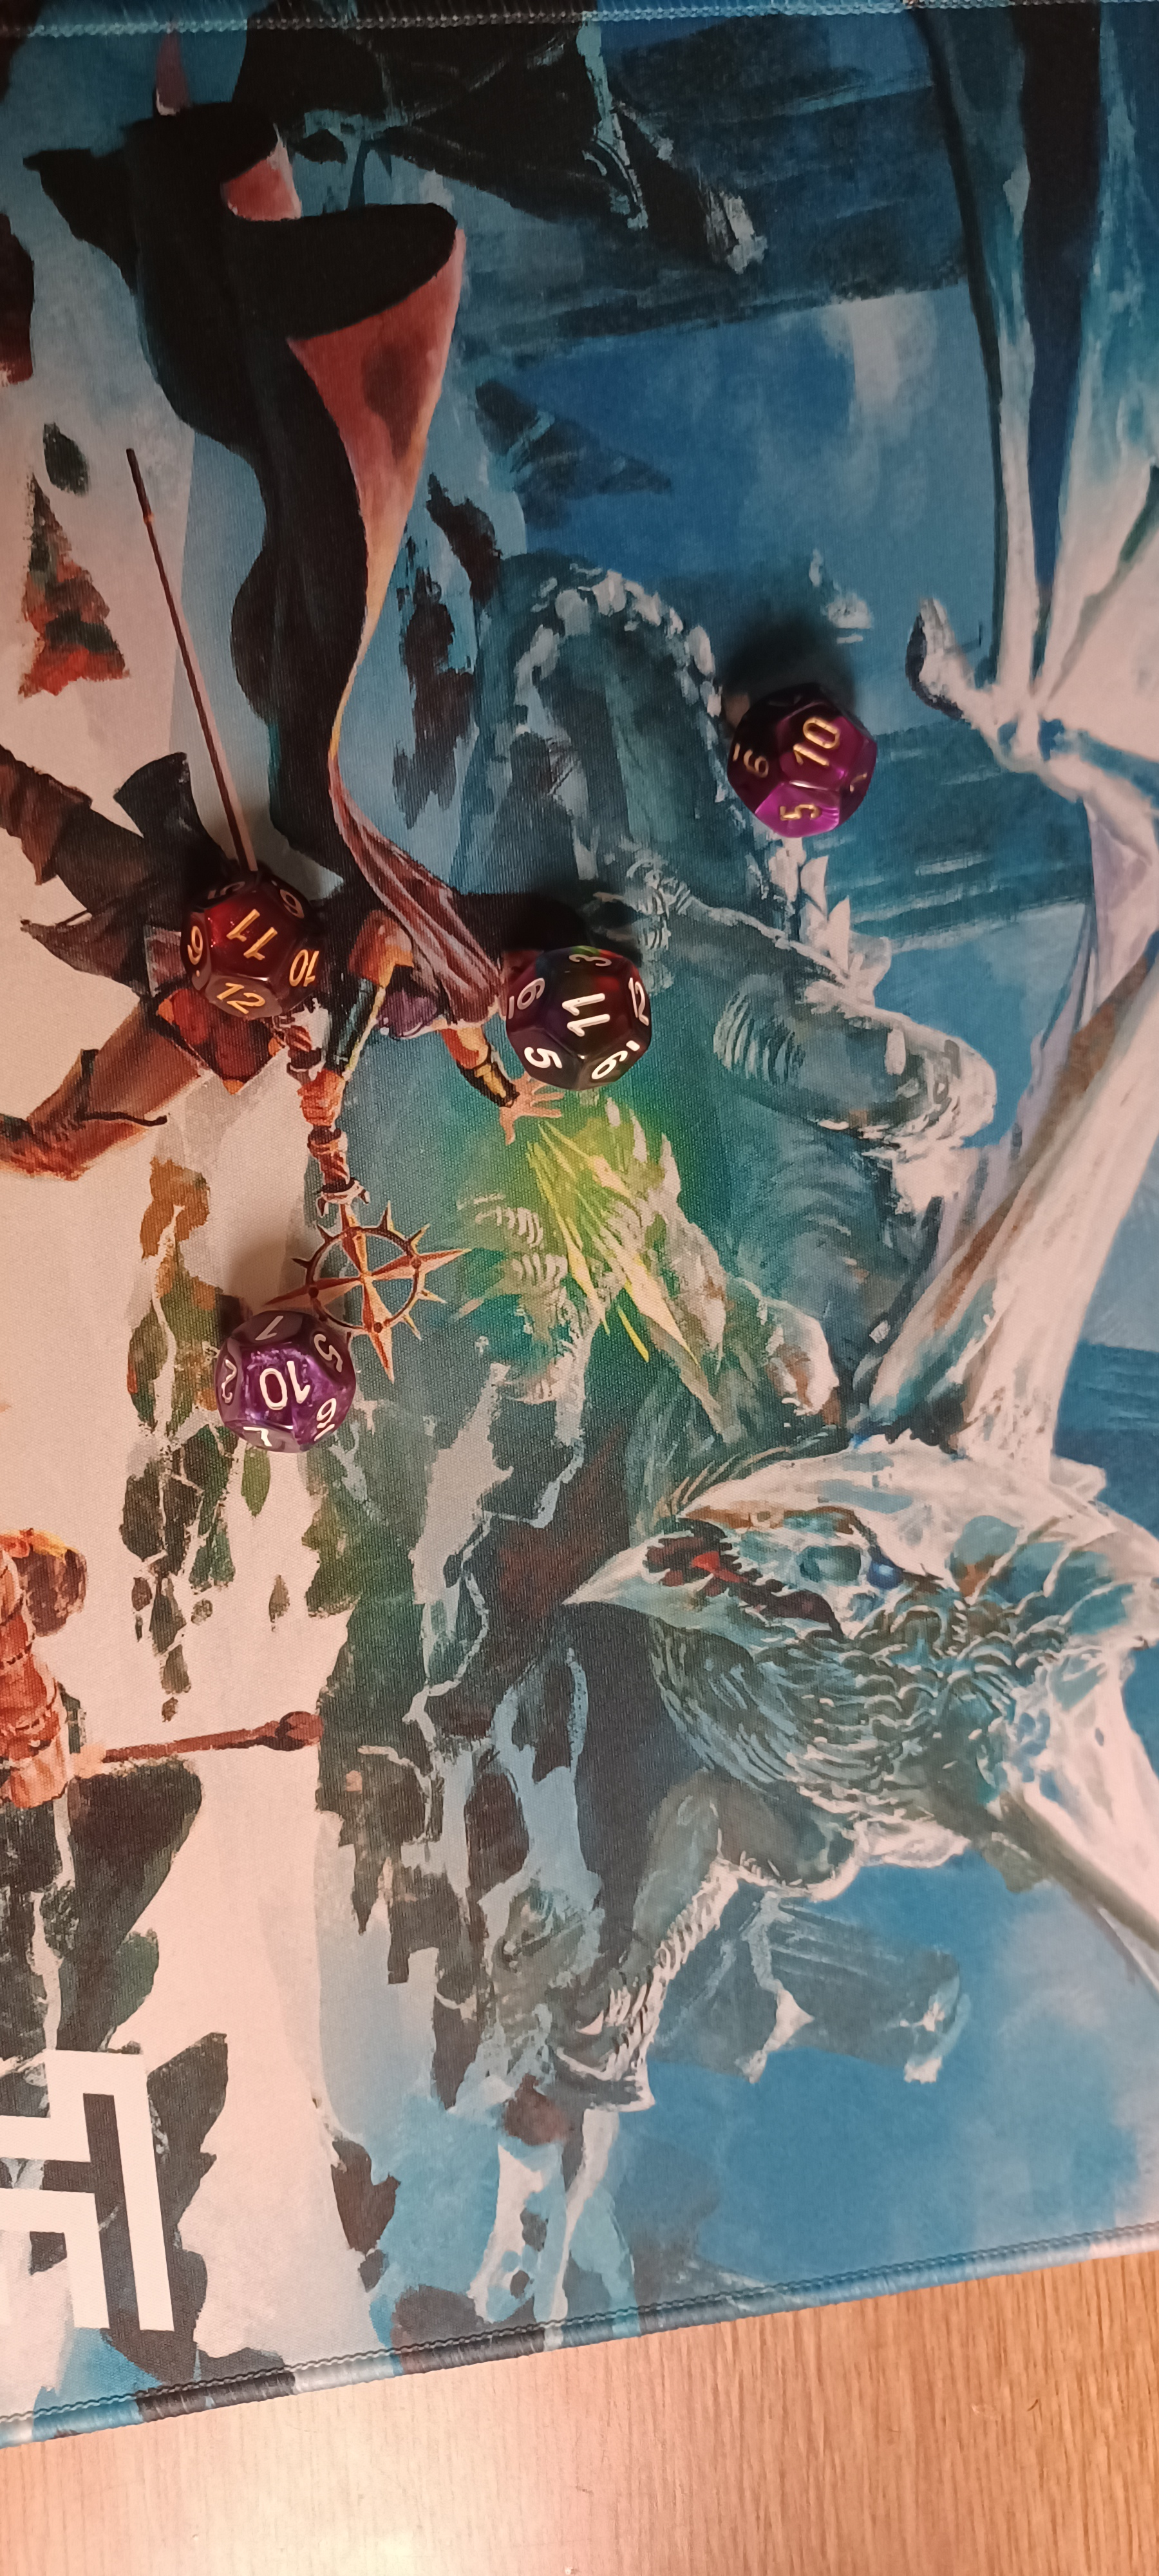eleven: (108, 843, 384, 1094), (466, 918, 688, 1130)
ten: (689, 649, 932, 876), (190, 1281, 384, 1475)
